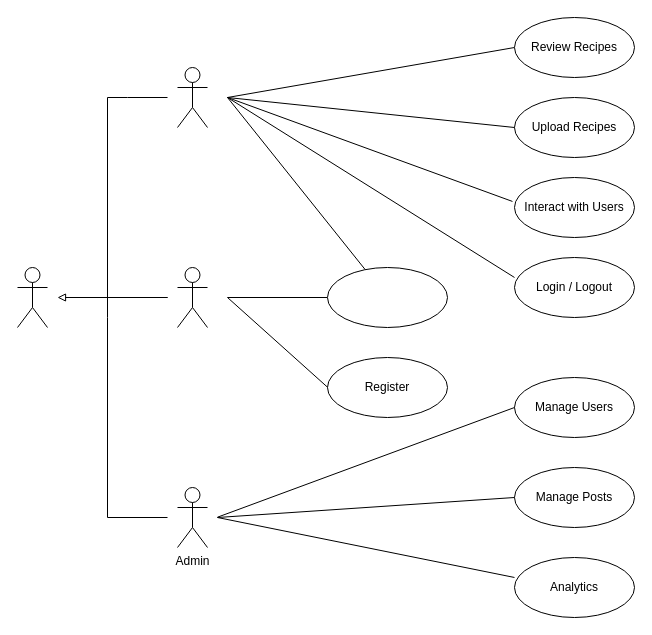
Some shapes in this 652 by 635 pixel diagram are drawn without their labels. Each missing label, with the centre of its shape:
"Browse Recipes" belongs at (x=387, y=297).
"Registered" belongs at (x=192, y=97).
"Unregistered" belongs at (x=192, y=297).
"User" belongs at (x=32, y=297).
